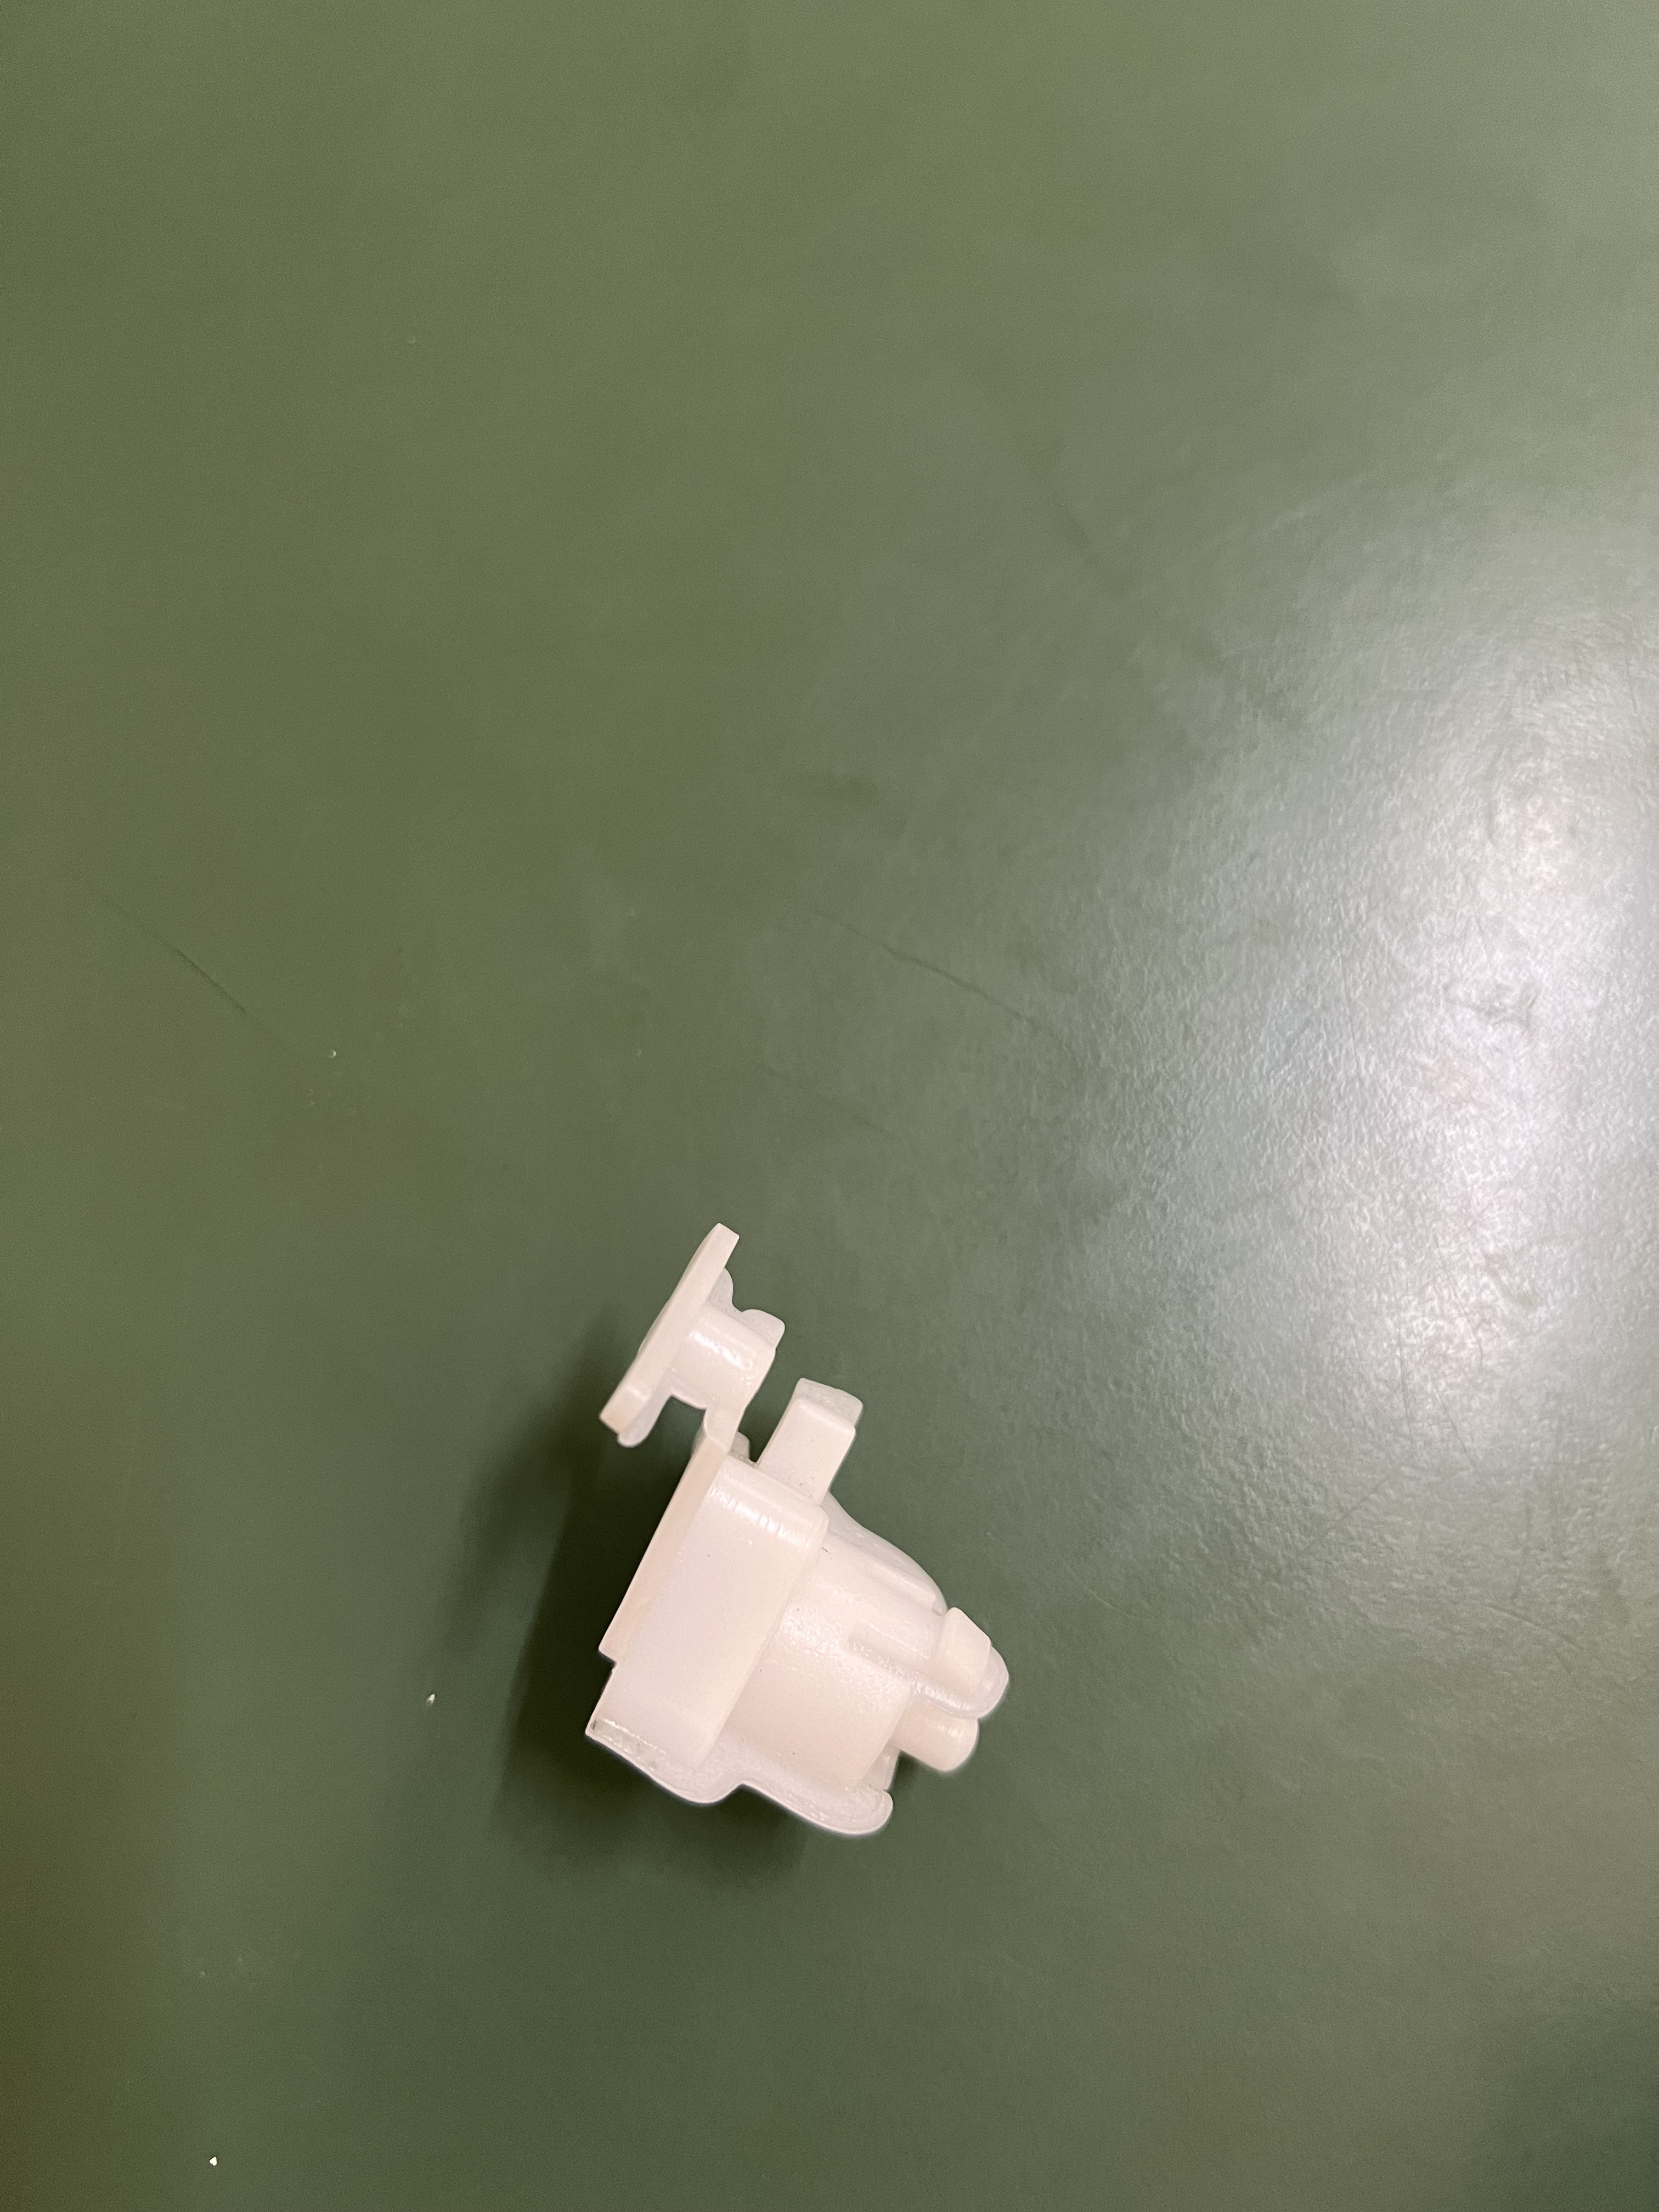drain_lever: (545, 1207, 1009, 1848)
